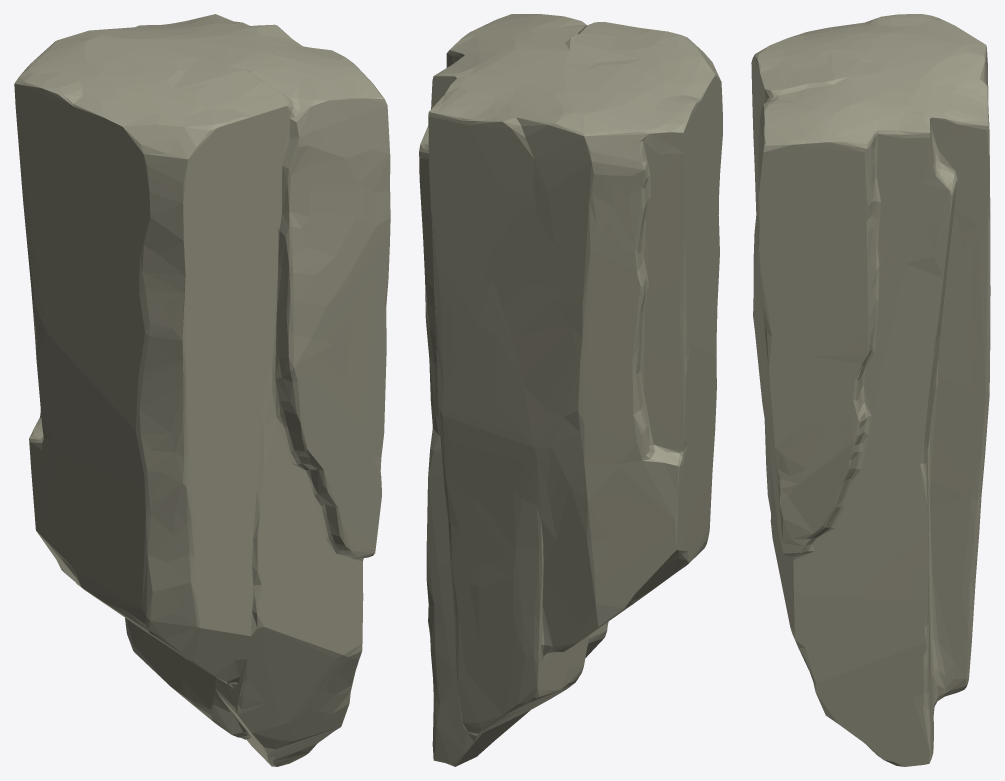
3 views of the same model, side by side, from view 1: azimuth 30°, elevation 25°; view 2: azimuth 150°, elevation 25°; view 3: azimuth 270°, elevation 25° (orthographic). The views are drawn at different scales.
Parts seen in each view (by area): view 1: SM_BM_Cliff_Detail_01_LOD0; view 2: SM_BM_Cliff_Detail_01_LOD0; view 3: SM_BM_Cliff_Detail_01_LOD0.
Part boxes in pixels (bbox=[...]): SM_BM_Cliff_Detail_01_LOD0: bbox=[14, 14, 390, 766]; SM_BM_Cliff_Detail_01_LOD0: bbox=[419, 14, 722, 766]; SM_BM_Cliff_Detail_01_LOD0: bbox=[751, 14, 990, 766].
Bounding box in the file's own units: 5.78 × 14.25 × 4.75.
